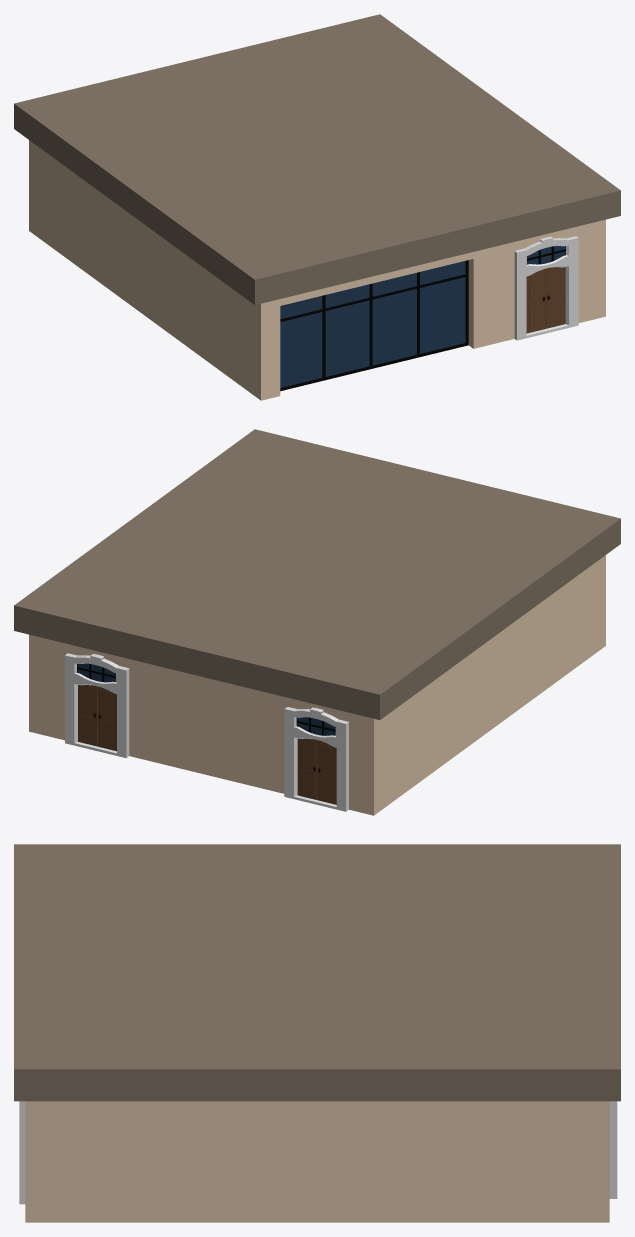
Rendered from Apt4_Base.fbx.
3 views of the same model, one above another, from view 1: azimuth 30°, elevation 25°; view 2: azimuth 150°, elevation 25°; view 3: azimuth 270°, elevation 25° (orthographic). The views are drawn at different scales.
Parts seen in each view (by area): view 1: Apt4_Base_Roof, Apt4_Base_Main, Apt4_Base_Border, Apt4_Base_Windows, Apt4_Base_DoorFrame, Apt4_Base_Frame, Apt4_Base_Door; view 2: Apt4_Base_Roof, Apt4_Base_Main, Apt4_Base_Border, Apt4_Base_DoorFrame, Apt4_Base_Door, Apt4_Base_Windows; view 3: Apt4_Base_Roof, Apt4_Base_Main, Apt4_Base_Border, Apt4_Base_DoorFrame.
Part boxes in pixels (x1,y1,x2,y2): Apt4_Base_Roof: (14,14,620,279); Apt4_Base_Main: (29,140,605,400); Apt4_Base_Border: (14,104,620,304); Apt4_Base_Windows: (280,246,565,387); Apt4_Base_DoorFrame: (514,236,578,340); Apt4_Base_Frame: (280,246,565,391); Apt4_Base_Door: (526,267,565,333); Apt4_Base_Roof: (14,429,620,694); Apt4_Base_Main: (29,555,605,815); Apt4_Base_Border: (14,519,620,719); Apt4_Base_DoorFrame: (65,653,348,811); Apt4_Base_Door: (78,685,336,804); Apt4_Base_Windows: (77,663,335,735); Apt4_Base_Roof: (14,844,620,1069); Apt4_Base_Main: (25,1101,609,1222); Apt4_Base_Border: (14,1069,620,1101); Apt4_Base_DoorFrame: (19,1101,617,1204).
Bounding box in the file's own units: 1307 × 432 × 1489.
